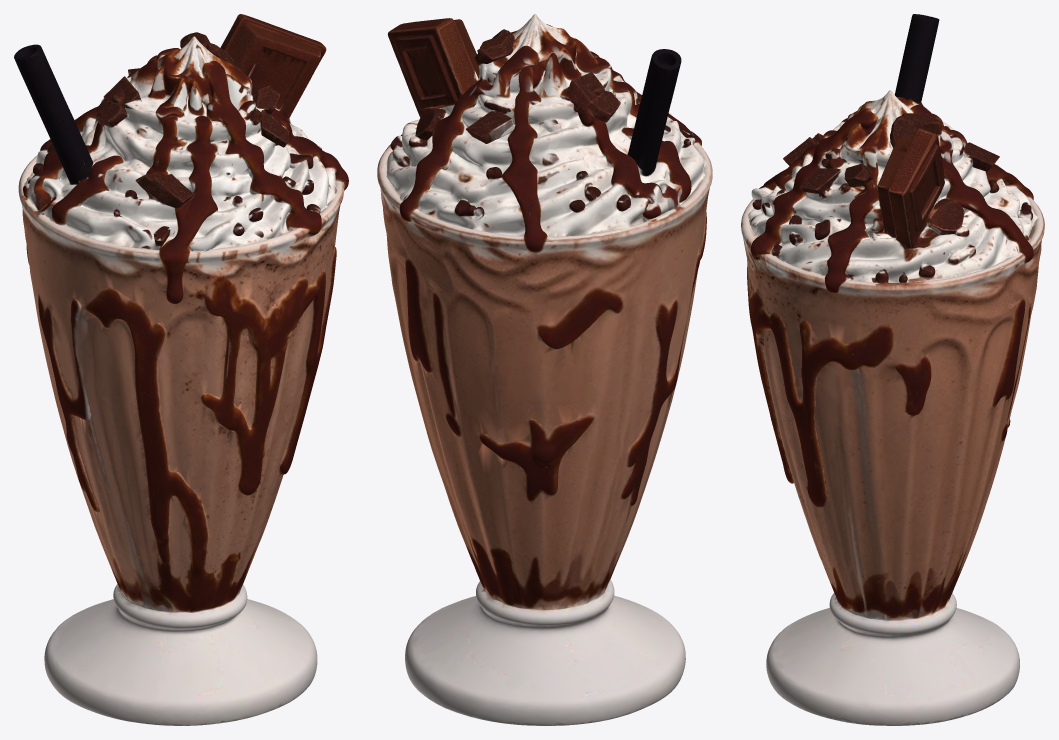
3 renders of one model, left to right at view 1: azimuth 30°, elevation 25°; view 2: azimuth 150°, elevation 25°; view 3: azimuth 270°, elevation 25°, orthographic. The views are drawn at different scales.
Size of the model in its own units: 0.9132 by 1.9 by 0.8756.
Materials: 1 (1 with a texture image).
